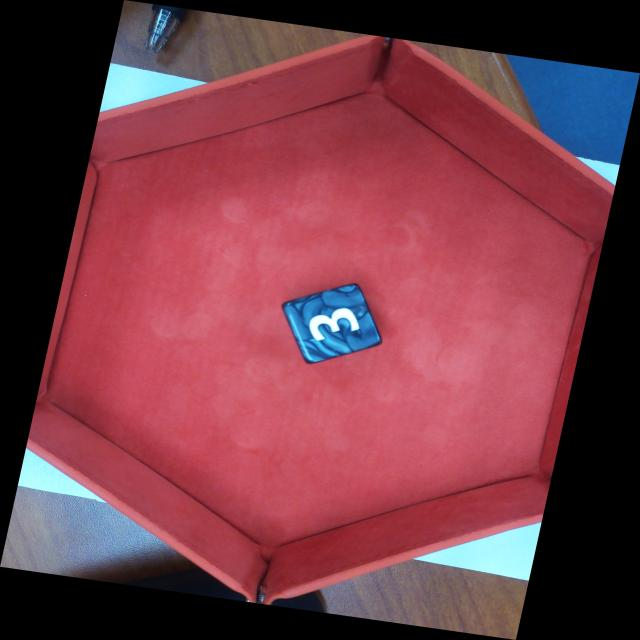dice: (283, 284, 390, 364)
